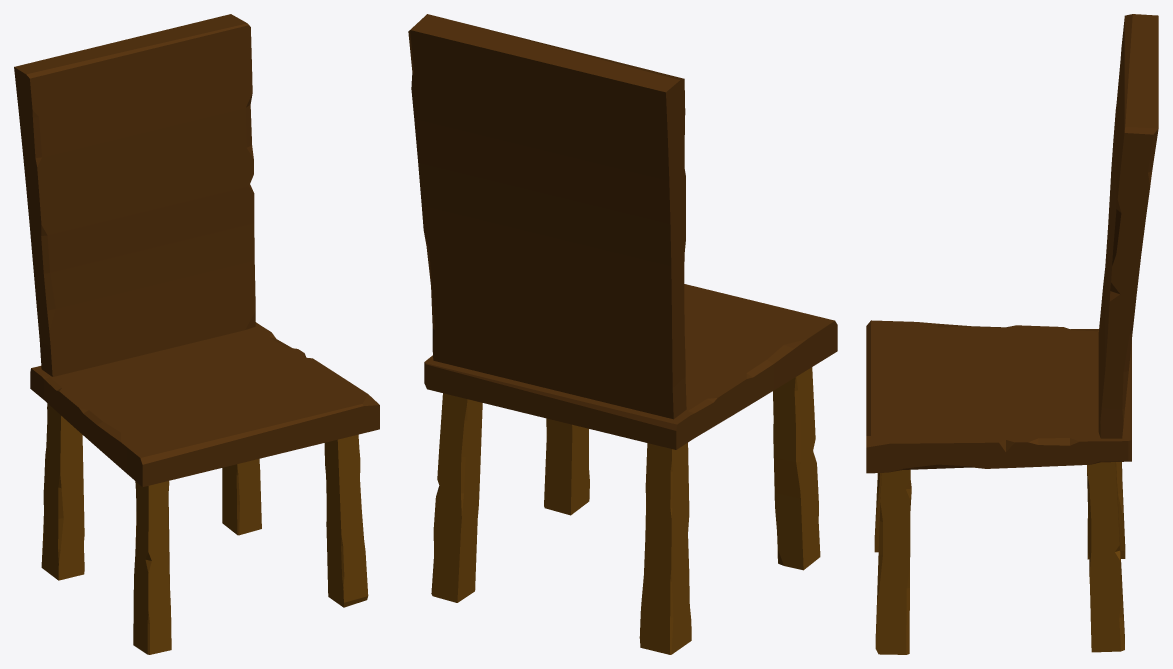
The model's file is BPW2_Chair.fbx.
3 views of the same model, side by side, from view 1: azimuth 30°, elevation 25°; view 2: azimuth 150°, elevation 25°; view 3: azimuth 270°, elevation 25° (orthographic). The views are drawn at different scales.
Parts seen in each view (by area): view 1: Cube.001, Cube, Cube.003; view 2: Cube.001, Cube.003, Cube; view 3: Cube, Cube.001, Cube.003.
Boxes of the visible parts, box(x1,y1,x2,y2) form: Cube.001: box(14, 14, 255, 376); Cube: box(30, 322, 379, 487); Cube.003: box(41, 403, 368, 654); Cube.001: box(408, 14, 686, 419); Cube.003: box(431, 367, 820, 654); Cube: box(424, 284, 837, 449); Cube: box(866, 320, 1131, 473); Cube.001: box(1098, 14, 1158, 438); Cube.003: box(874, 462, 1125, 654).
Bounding box in the file's own units: 495 × 986 × 495.
